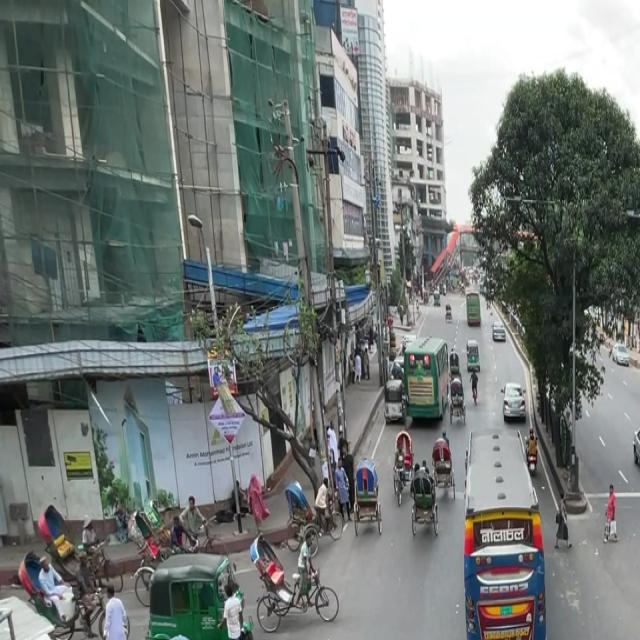bus: (464, 417, 550, 640)
car: (10, 553, 106, 640), (498, 379, 528, 429), (630, 421, 640, 485)
motorbike: (521, 428, 542, 489)
rickshaw: (143, 549, 247, 640)
